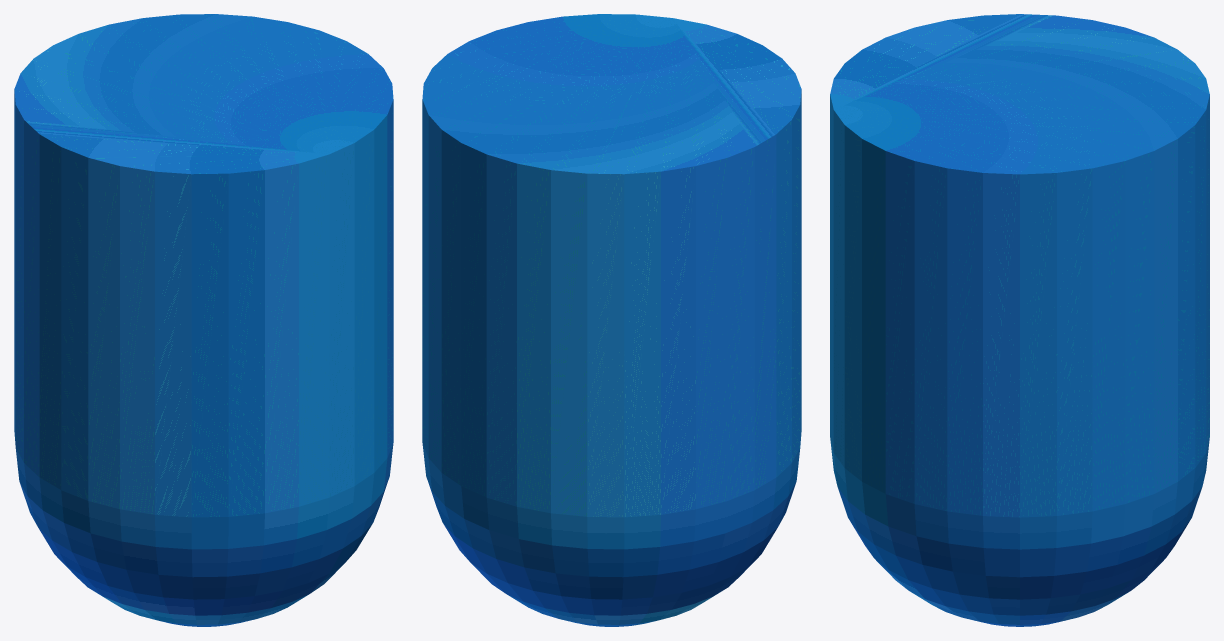
File: ultiAgua.fbx
The picture shows the model from 3 angles, left to right: view 1: azimuth 30°, elevation 25°; view 2: azimuth 150°, elevation 25°; view 3: azimuth 270°, elevation 25°; orthographic projection.
Visible parts, largest first — view 1: Sphere; view 2: Sphere; view 3: Sphere.
Part boxes in pixels (x1,y1,x2,y2): Sphere: [14, 14, 393, 626]; Sphere: [422, 14, 801, 626]; Sphere: [830, 14, 1209, 626].
Size of the model in its own units: 200 by 299 by 200.
1 material, 1 textured.
